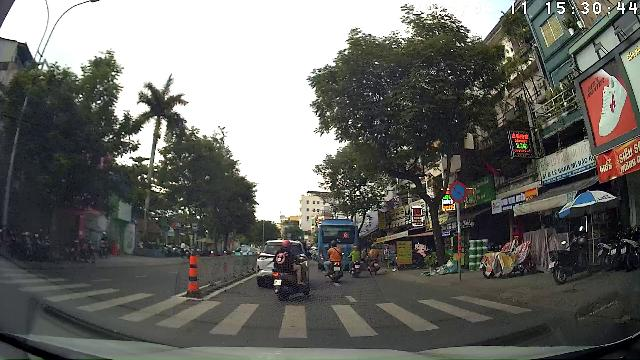131a-cam-do-xe: (449, 181, 467, 203)
